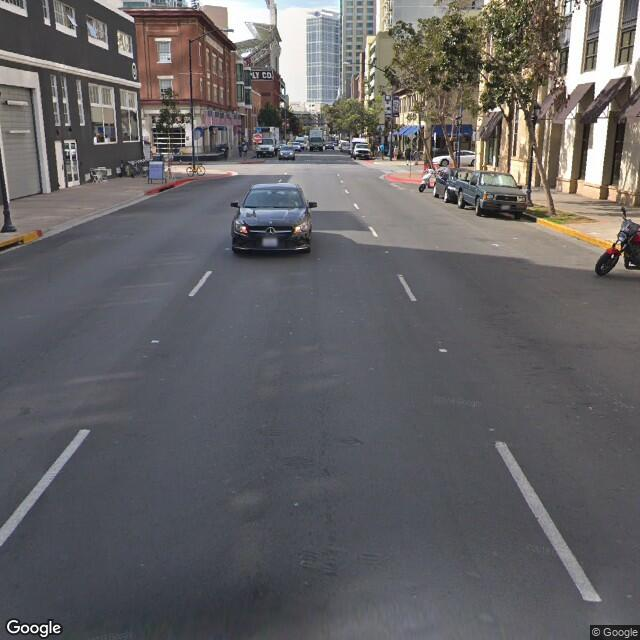road line: (481, 430, 601, 598), (11, 412, 91, 552), (395, 253, 418, 304), (185, 267, 218, 294)
window: (89, 85, 114, 141), (583, 39, 599, 78)
